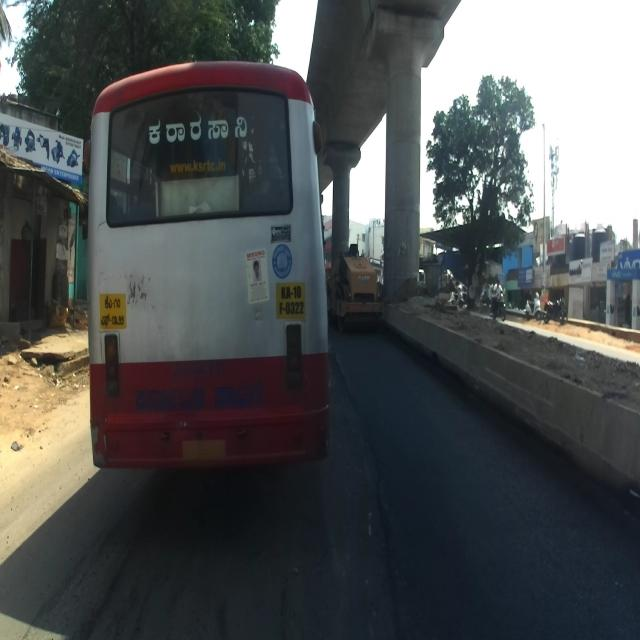bus: (83, 58, 338, 478)
